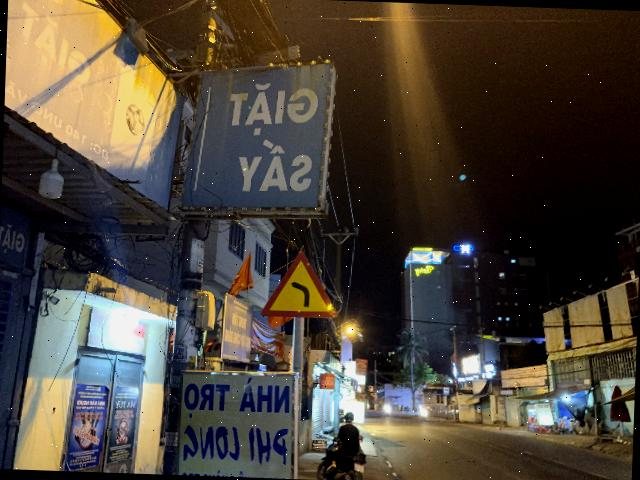cho-ngoat-nguy-hiem-ben-phai: (260, 248, 340, 320)
